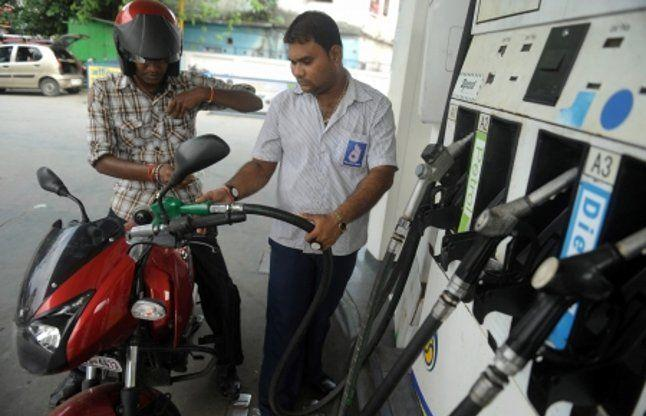helmet: (102, 0, 206, 89)
